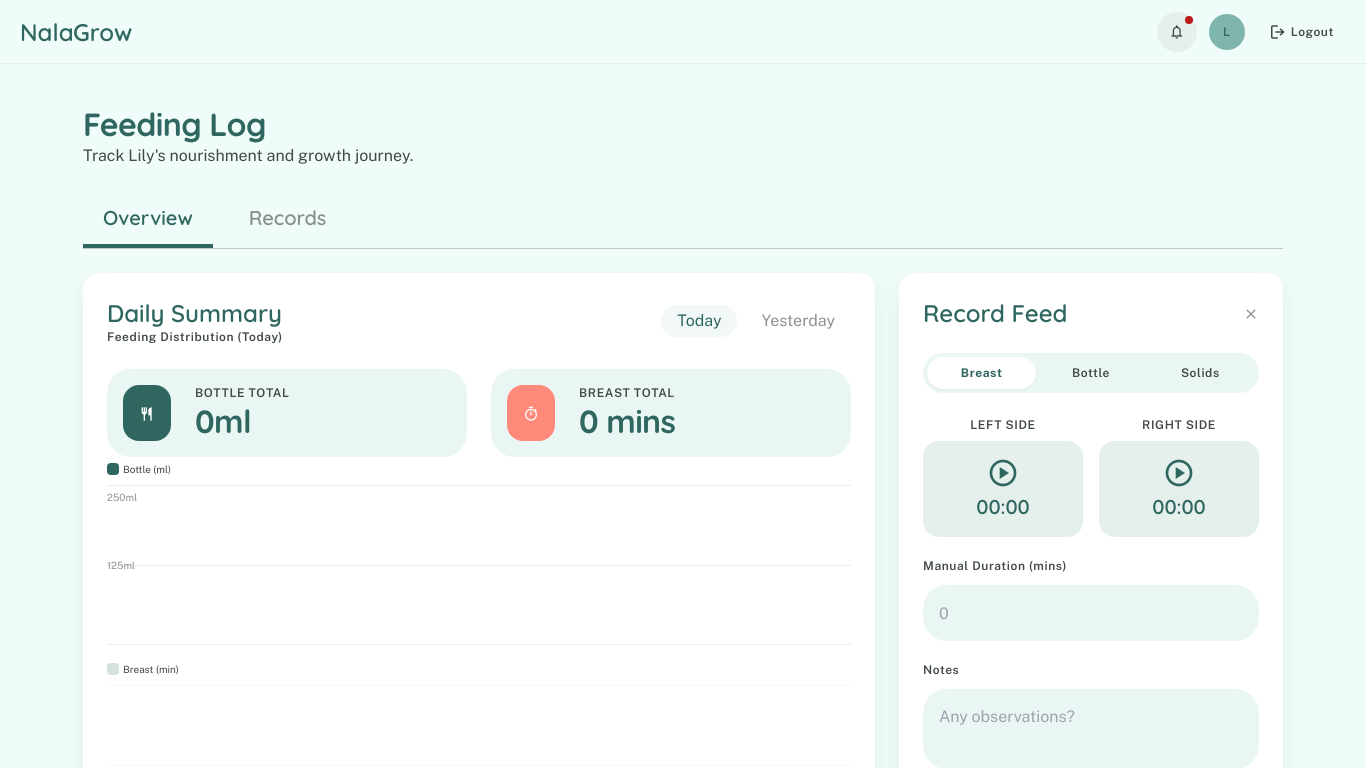
FeedingPage › Tab switching › switches to Solids tab when clicked
This screenshot has width=1366, height=768.
Click the button "Solids".
click(1200, 373)  # box x1=1146 y1=357 x2=1255 y2=389
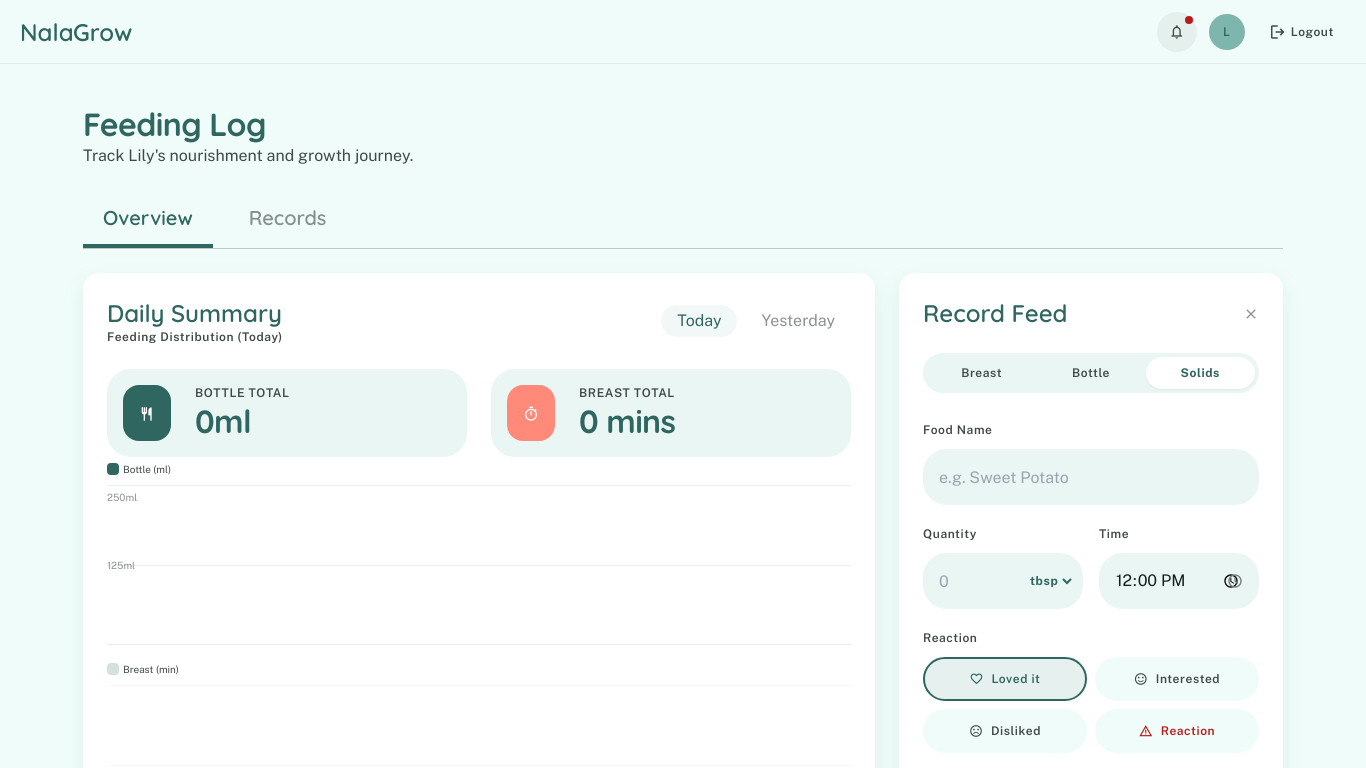
expect the text "Food Name" is shown: met, box x1=923 y1=423 x2=992 y2=437
expect the text "Quantity" is shown: met, box x1=923 y1=527 x2=977 y2=541
